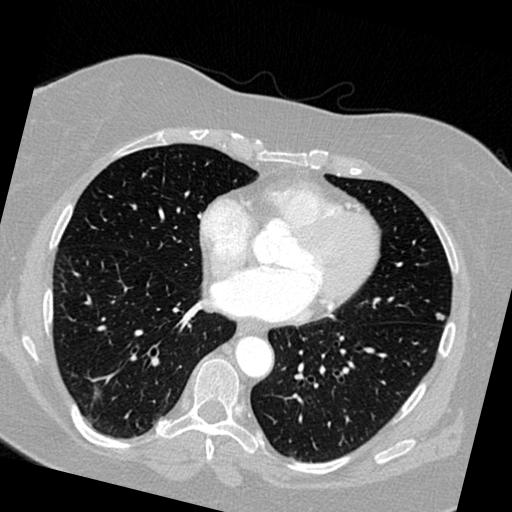nodule: (433, 309, 449, 325)
